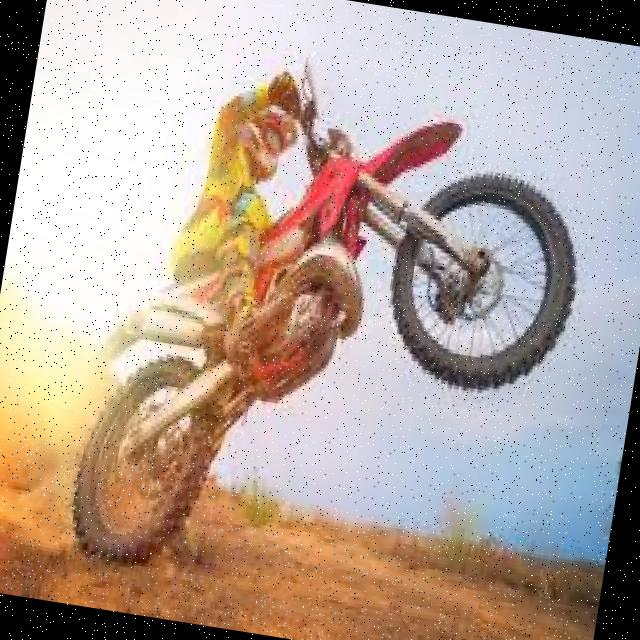Wheeling: (53, 30, 608, 640)
